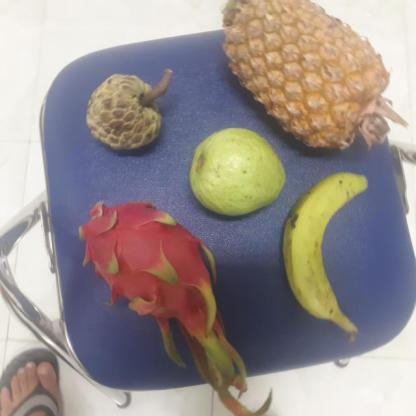annona: (83, 74, 163, 154)
banana: (276, 171, 369, 326)
guava: (184, 128, 284, 215)
pineapple: (219, 0, 388, 146)
pitaya: (74, 201, 220, 332)
